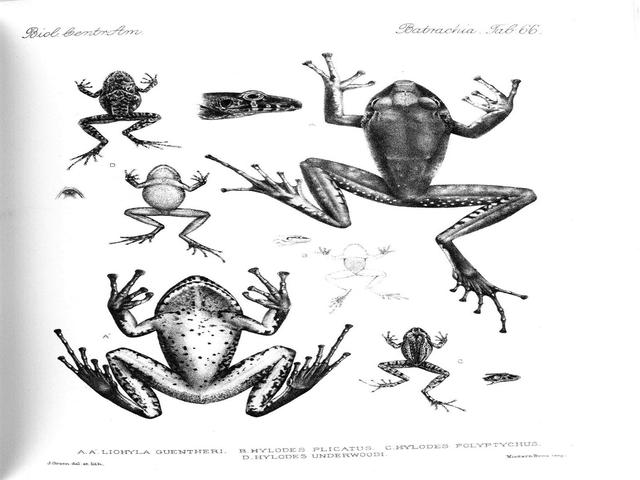frog: (66, 277, 360, 428), (52, 51, 200, 178), (376, 314, 465, 414)
